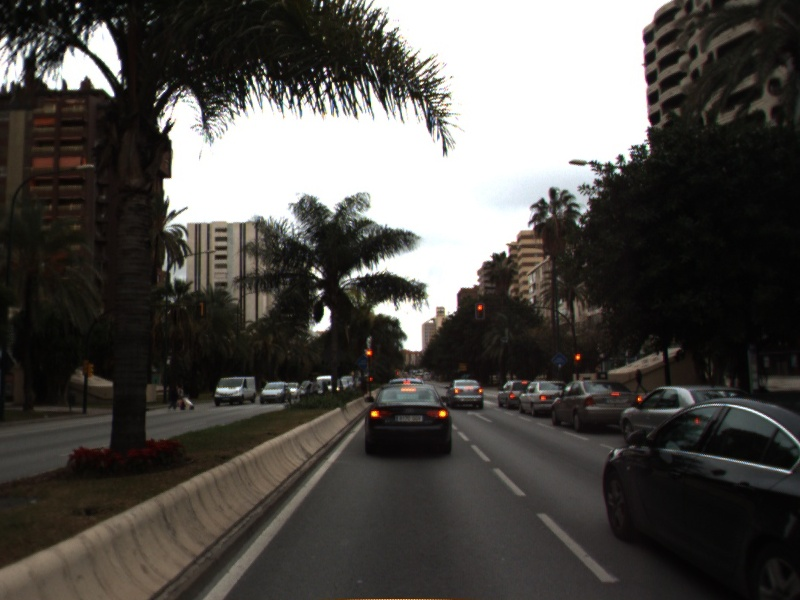STRAIGHT: (465, 408, 495, 424)
